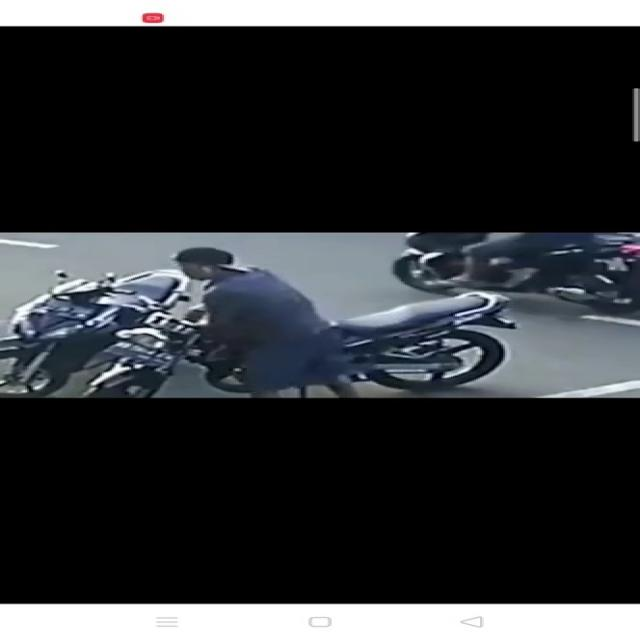pencurian: (83, 246, 524, 396)
